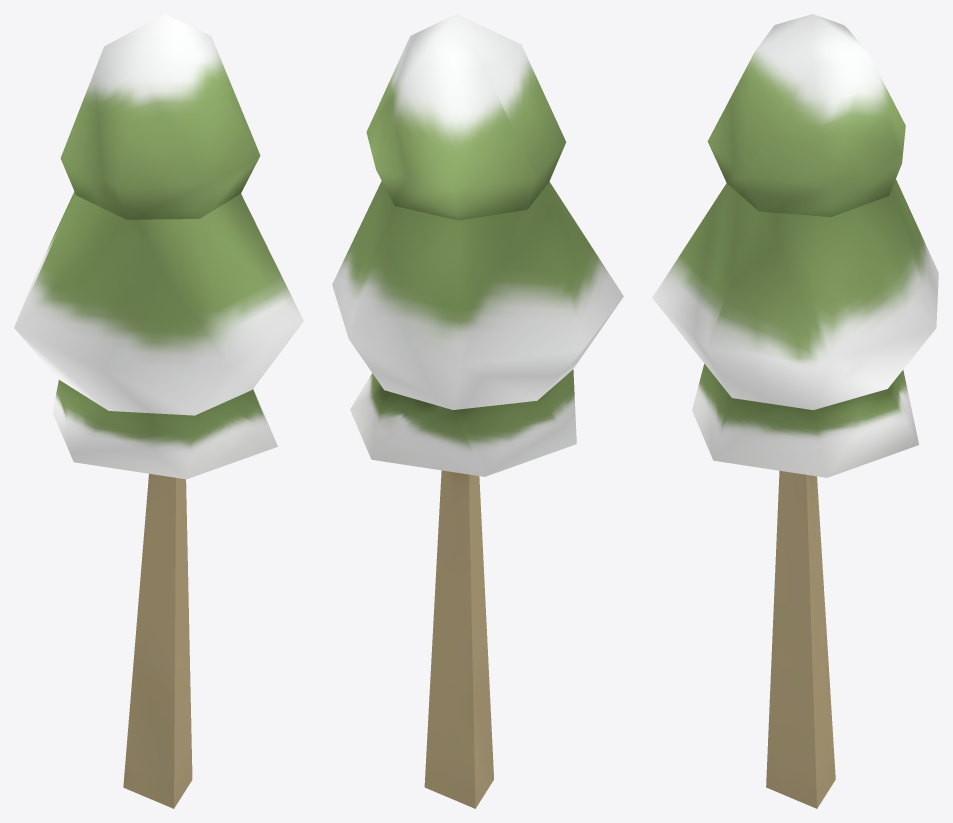
3 renders of one model, left to right at view 1: azimuth 30°, elevation 25°; view 2: azimuth 150°, elevation 25°; view 3: azimuth 270°, elevation 25°, orthographic.
Visible parts, largest first — view 1: wLODSosna1; view 2: wLODSosna1; view 3: wLODSosna1.
Part boxes in pixels (x1,y1,x2,y2): wLODSosna1: [14, 14, 303, 808]; wLODSosna1: [332, 14, 623, 808]; wLODSosna1: [652, 14, 938, 808].
Bounding box in the file's own units: 6.98 × 20.51 × 6.83.
1 material, 1 textured.
